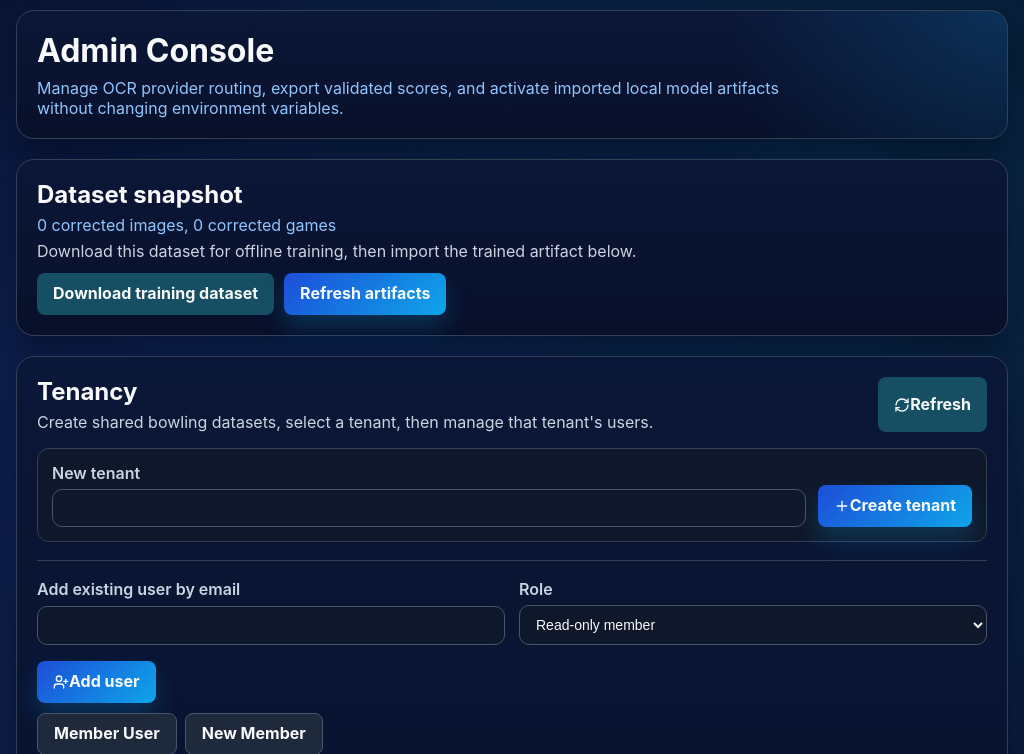
Test: AdminConsole tenancy management › adds an existing user to the selected tenant
The width and height of the screenshot is (1024, 754).
Click the button "New Member".
click(254, 734)  # box x1=185 y1=713 x2=323 y2=753
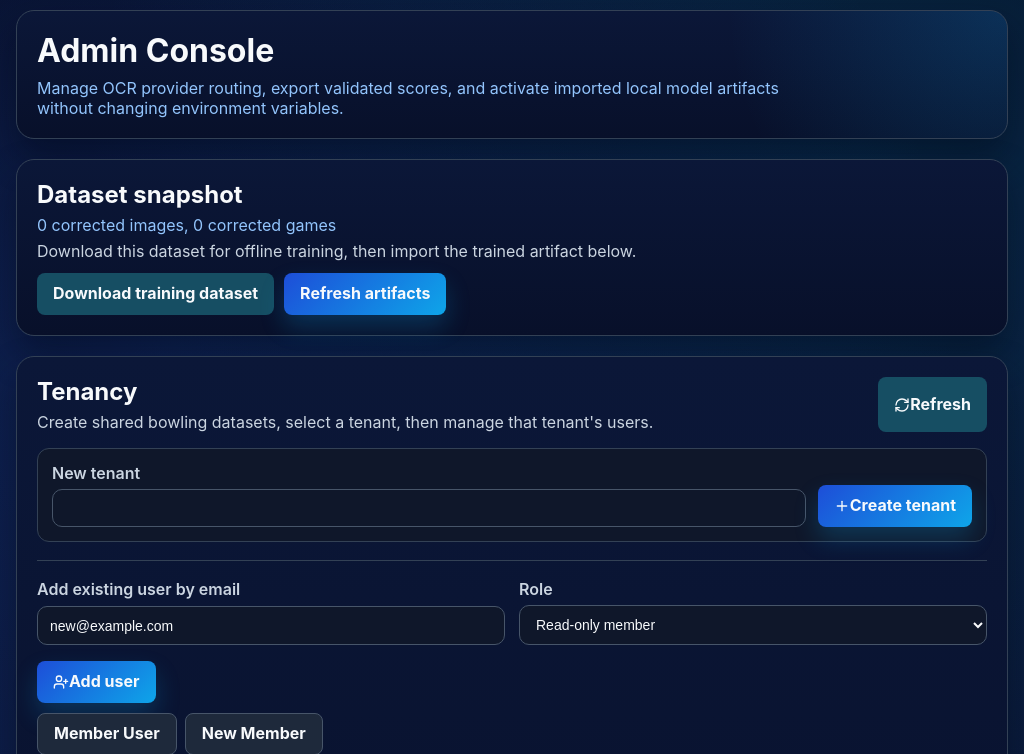
Click the button "Add user".
click(96, 682)  # box x1=37 y1=661 x2=156 y2=703
(page scrolled)
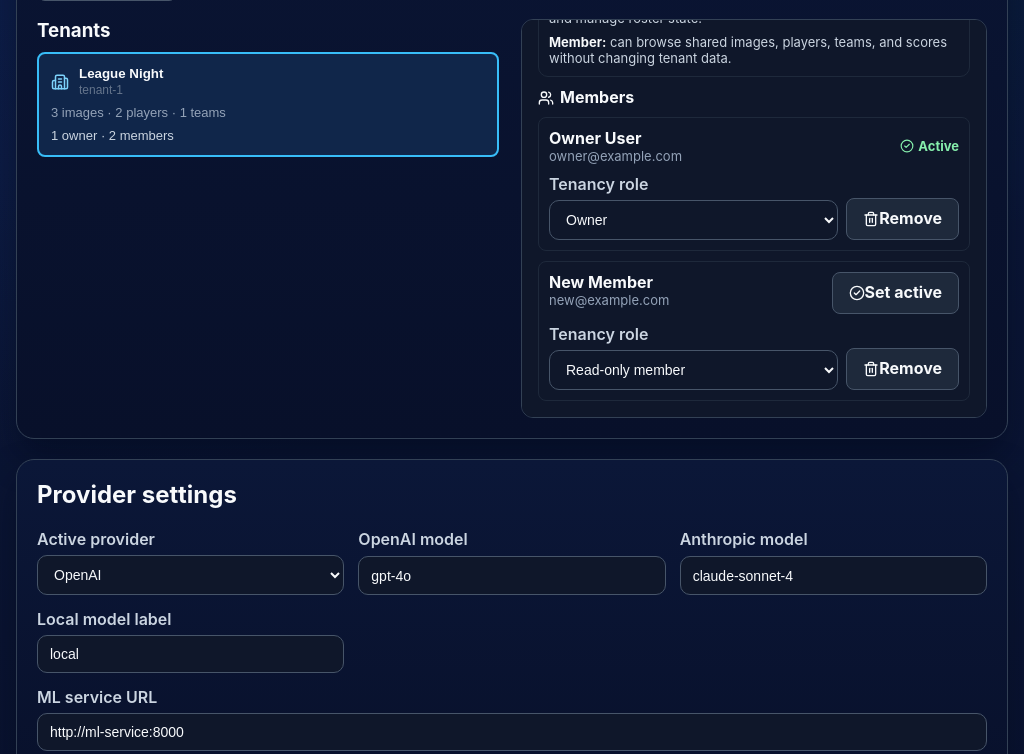
Expected: the dropdown named "Tenancy role for new@example.com" is shown, x1=549 y1=350 x2=838 y2=390
